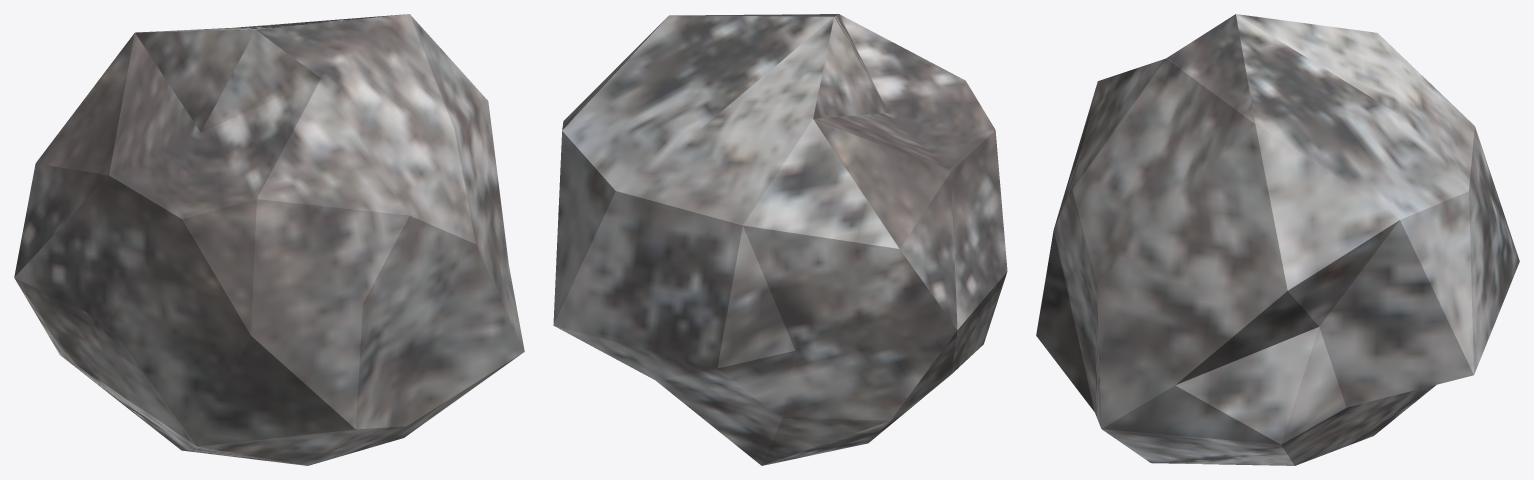
File: Asteroid_Small_001.fbx
3 views of the same model, side by side, from view 1: azimuth 30°, elevation 25°; view 2: azimuth 150°, elevation 25°; view 3: azimuth 270°, elevation 25° (orthographic). The views are drawn at different scales.
Visible parts, largest first — view 1: Asteroid_Small_001; view 2: Asteroid_Small_001; view 3: Asteroid_Small_001.
Part boxes in pixels (x1=…): Asteroid_Small_001: x1=14, y1=14, x2=524, y2=465; Asteroid_Small_001: x1=553, y1=14, x2=1007, y2=465; Asteroid_Small_001: x1=1036, y1=14, x2=1519, y2=465.
Bounding box in the file's own units: 8.77 × 8.36 × 8.05.
Materials: 1 (1 with a texture image).
